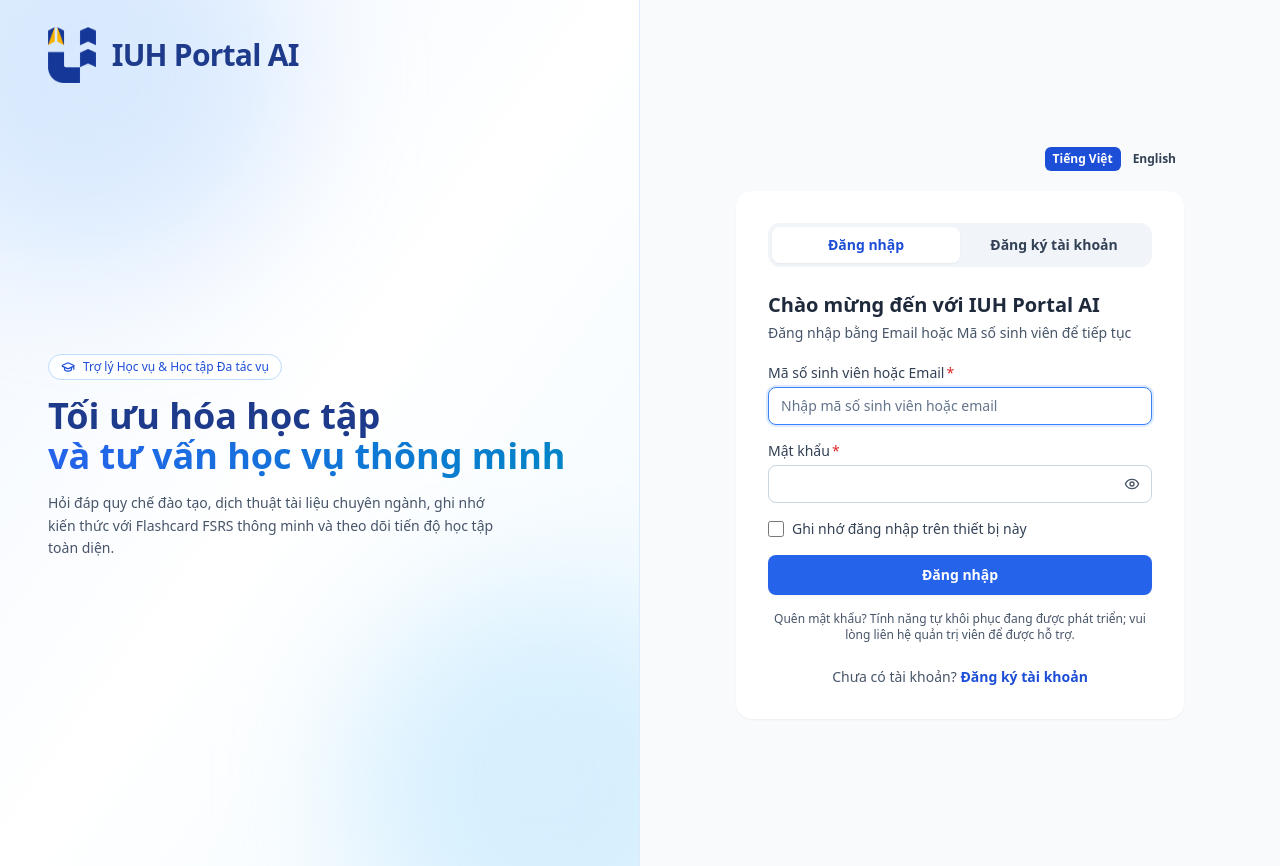
Scenario: LoginPage — đăng ký › kiểm tra phía client khớp luật server: đuôi email IUH, khoa/ngành, mật khẩu
This screenshot has width=1280, height=866.
Click the tab "Đăng ký tài khoản".
click(1054, 245)  # box 960,227 -> 1148,263
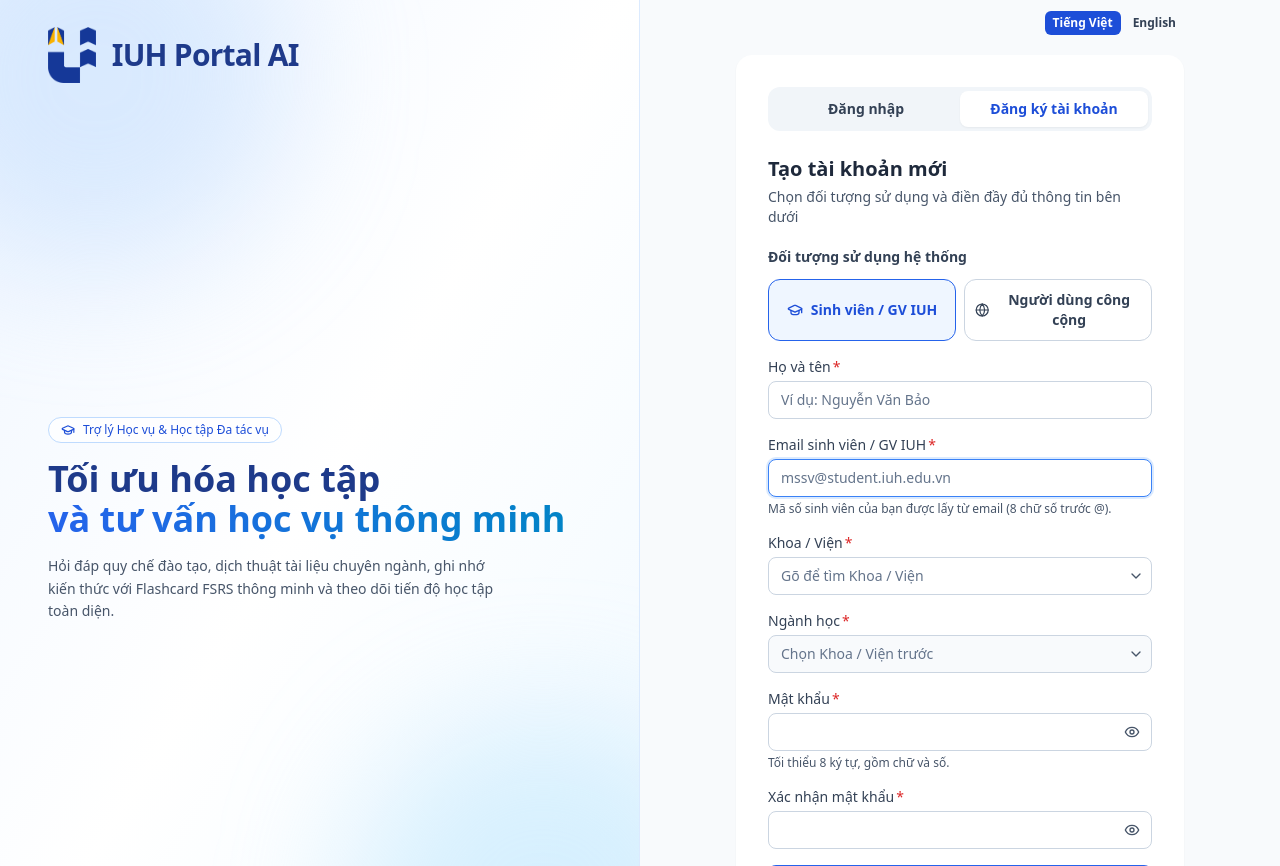
Type "Nguyễn Văn Bảo" into the field labelled "Họ và tên*".
click(960, 400); type("Nguyễn Văn Bảo")  # box 768,381 -> 1152,419
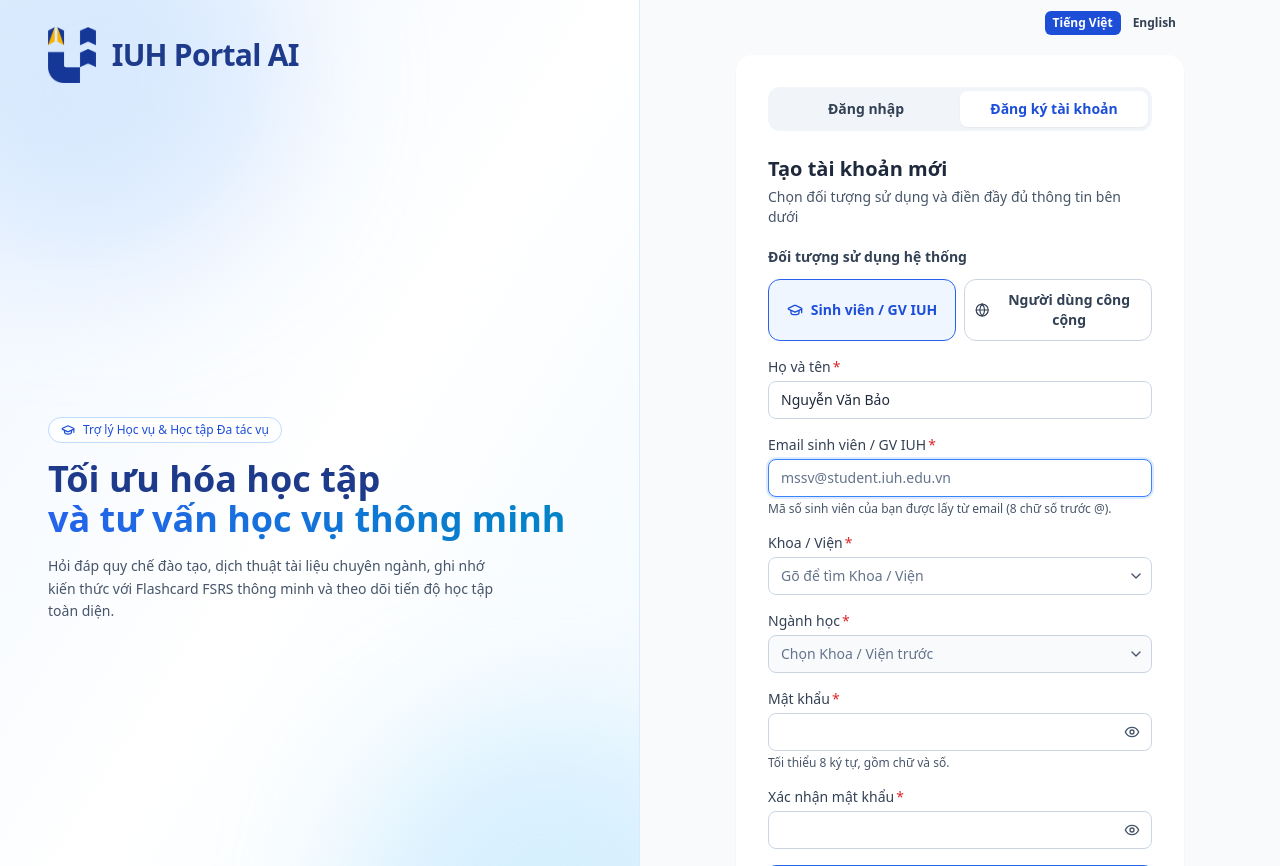
Type "bao@gmail.com" into the field labelled "Email sinh viên / GV IUH*".
click(960, 478); type("bao@gmail.com")  # box 768,459 -> 1152,497
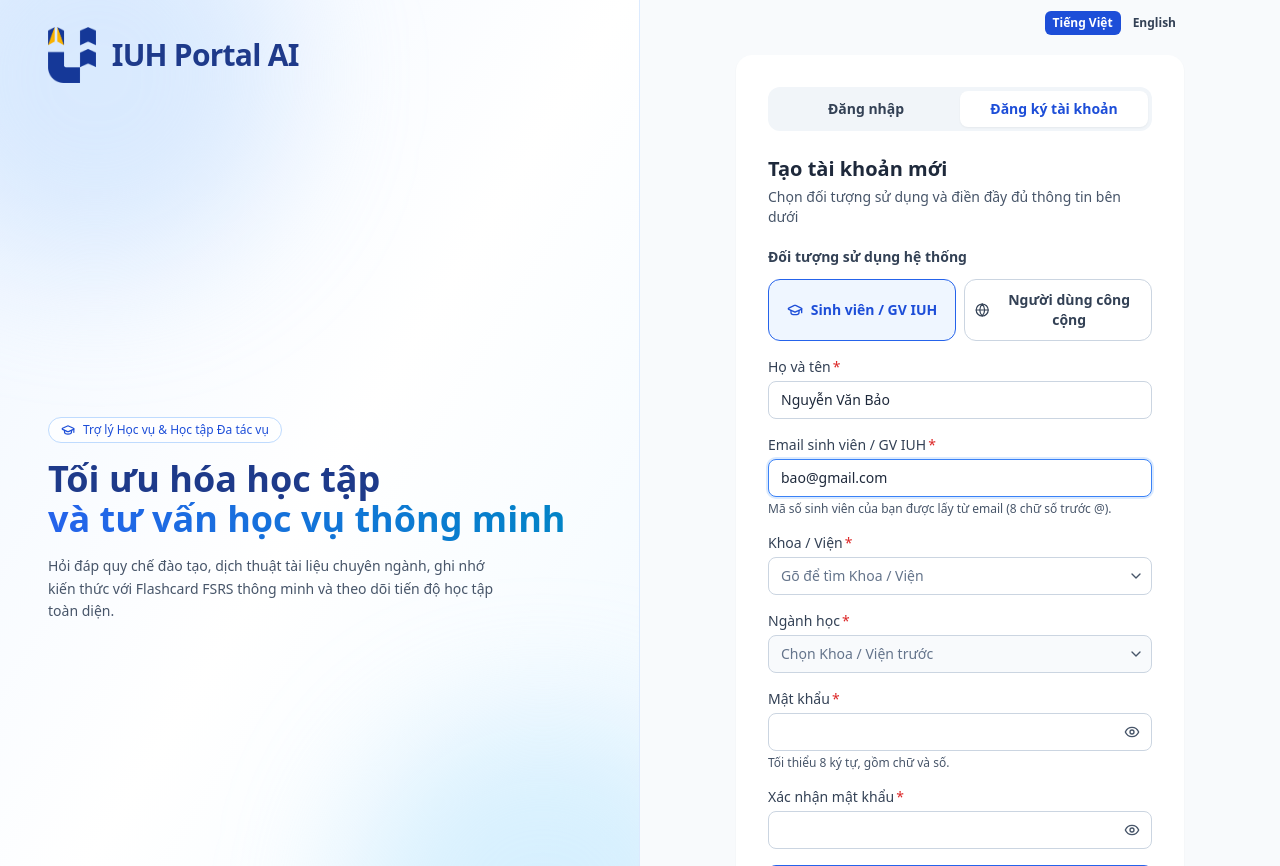
Type "abcdefgh" into the password field labelled "Mật khẩu*".
click(960, 732); type("abcdefgh")  # box 768,713 -> 1152,751
(page scrolled)
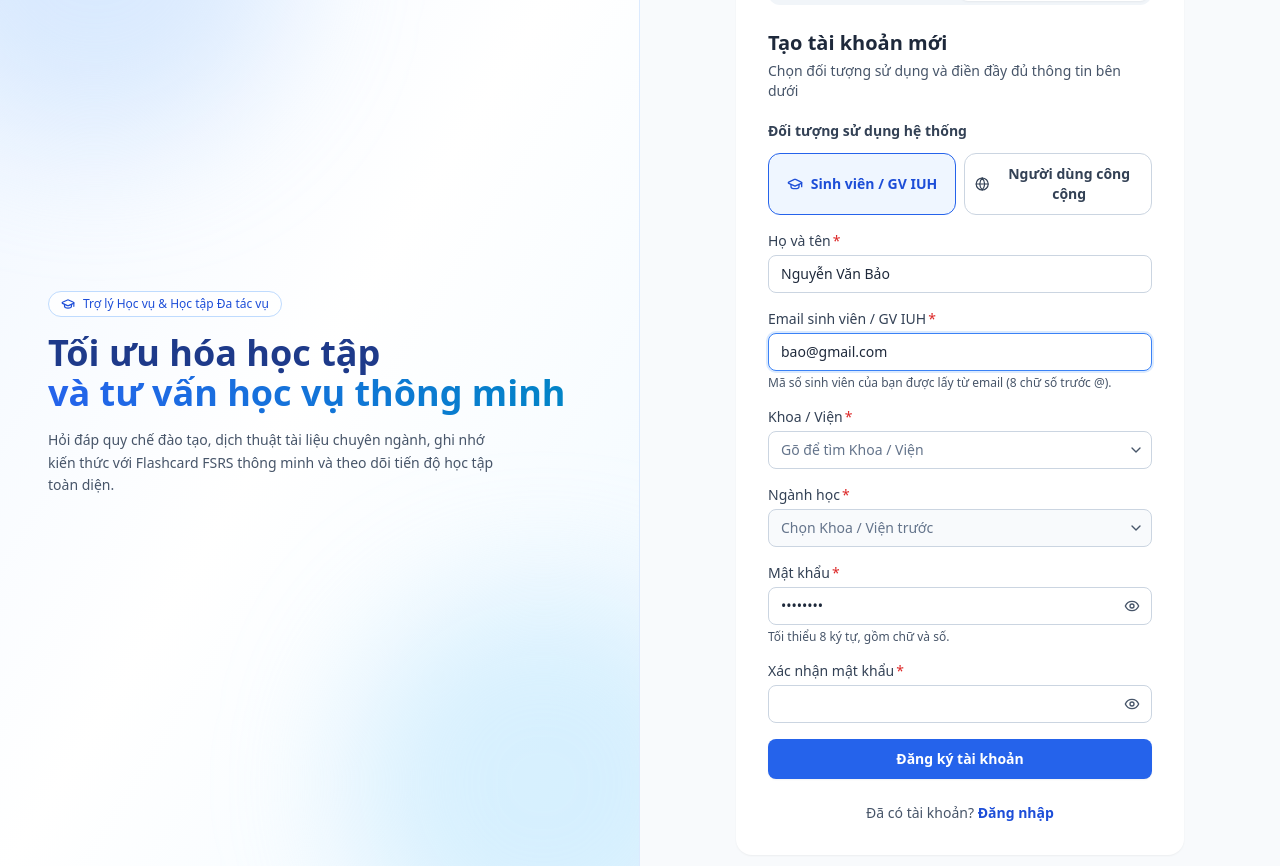
Click the button "Đăng ký tài khoản".
click(960, 759)  # box 768,739 -> 1152,779
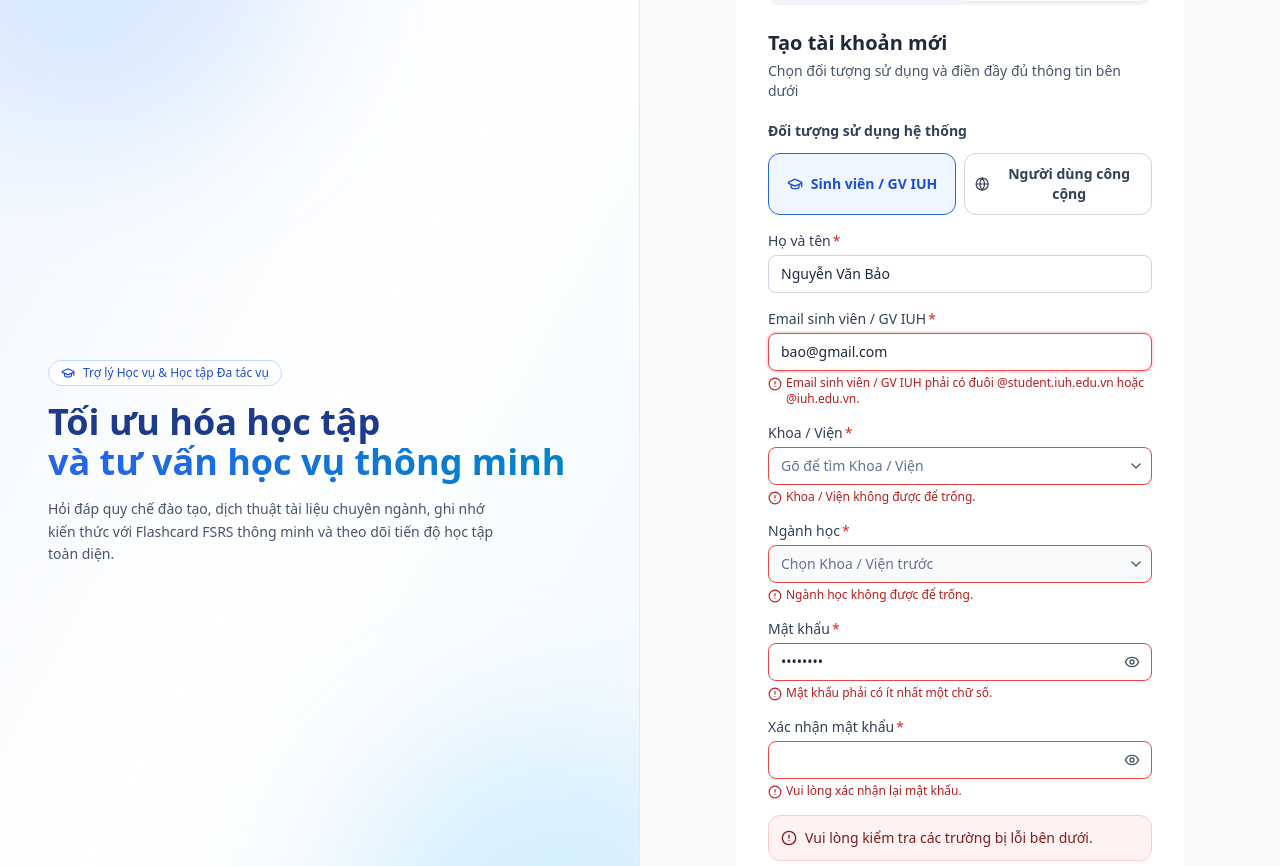
expect the text "phải có đuôi @student.iuh.edu.vn" is shown: met, box 786,374 -> 1144,407
expect the text "Mật khẩu phải có ít nhất một chữ số." is shown: met, box 786,685 -> 992,701
expect the text "Khoa / Viện không được để trống." is shown: met, box 786,489 -> 976,505
